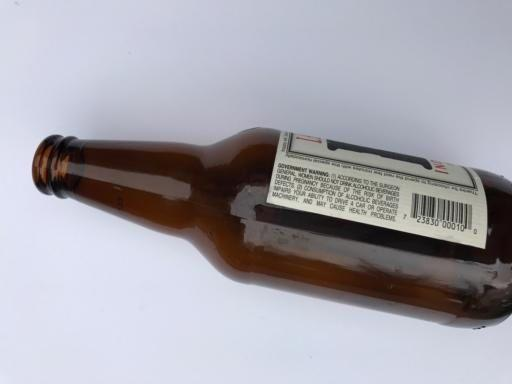botolkaca: (31, 126, 512, 329)
